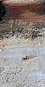Corrosion: (1, 1, 45, 41)
